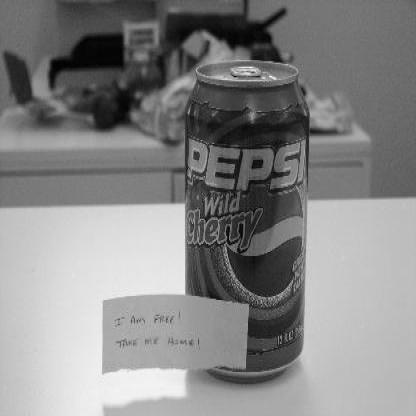alumunium_can: (184, 59, 312, 388)
